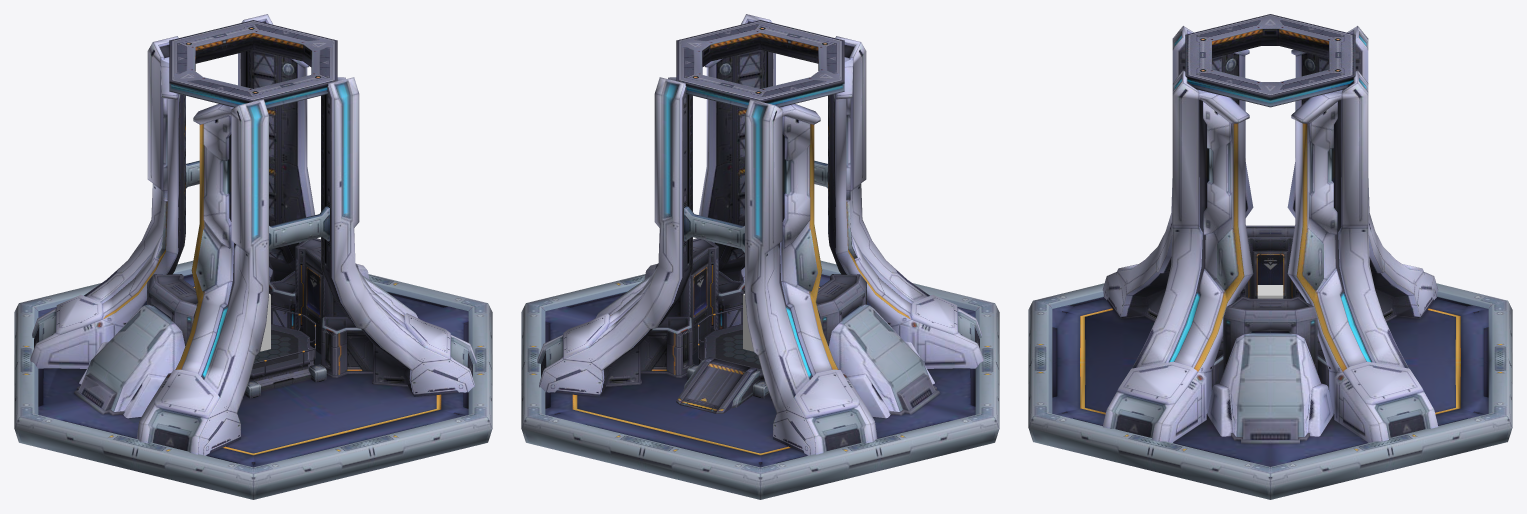
Rendered from Scece_01_ta.FBX.
3 views of the same model, side by side, from view 1: azimuth 30°, elevation 25°; view 2: azimuth 150°, elevation 25°; view 3: azimuth 270°, elevation 25° (orthographic).
Visible parts, largest first — view 1: Scece_01_ta, Scece_01_ta_01; view 2: Scece_01_ta, Scece_01_ta_01; view 3: Scece_01_ta, Scece_01_ta_01.
Part boxes in pixels (bbox=[...]): Scece_01_ta: bbox=[30, 14, 476, 455]; Scece_01_ta_01: bbox=[14, 260, 492, 499]; Scece_01_ta: bbox=[537, 14, 983, 455]; Scece_01_ta_01: bbox=[521, 260, 999, 499]; Scece_01_ta: bbox=[1102, 14, 1438, 443]; Scece_01_ta_01: bbox=[1028, 283, 1512, 499].
Bounding box in the file's own units: 10.8 × 7.03 × 9.35.
1 material, 1 textured.
